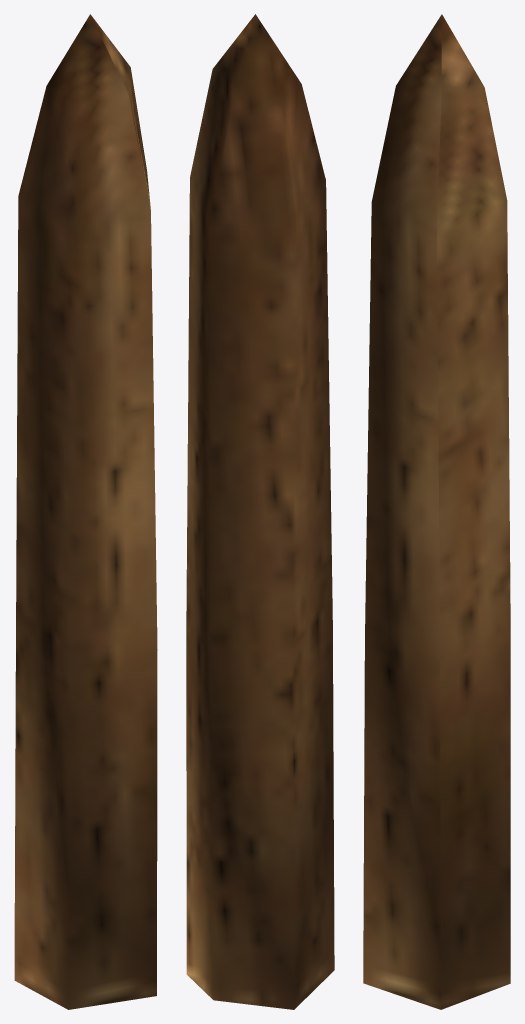
The model's file is stick_02.FBX.
3 views of the same model, side by side, from view 1: azimuth 30°, elevation 25°; view 2: azimuth 150°, elevation 25°; view 3: azimuth 330°, elevation 25° (orthographic).
Parts seen in each view (by area): view 1: stick_02; view 2: stick_02; view 3: stick_02.
Part boxes in pixels (<box>): stick_02: <box>14,14,157,1009</box>; stick_02: <box>186,14,334,1009</box>; stick_02: <box>363,14,510,1009</box>.
Bounding box in the file's own units: 3.08 × 24.05 × 3.12.
